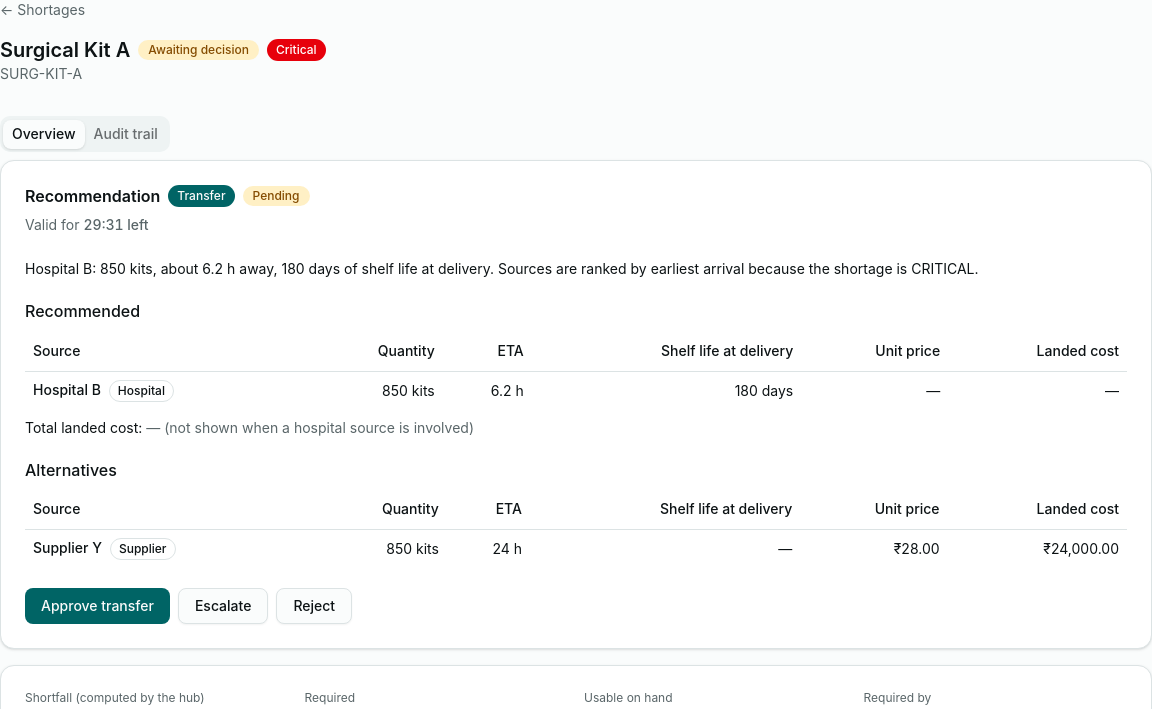
Test: Decision panel › escalates without a body when no reason is typed
Click the button "Escalate" at (223,606), box [178,588,268,624]
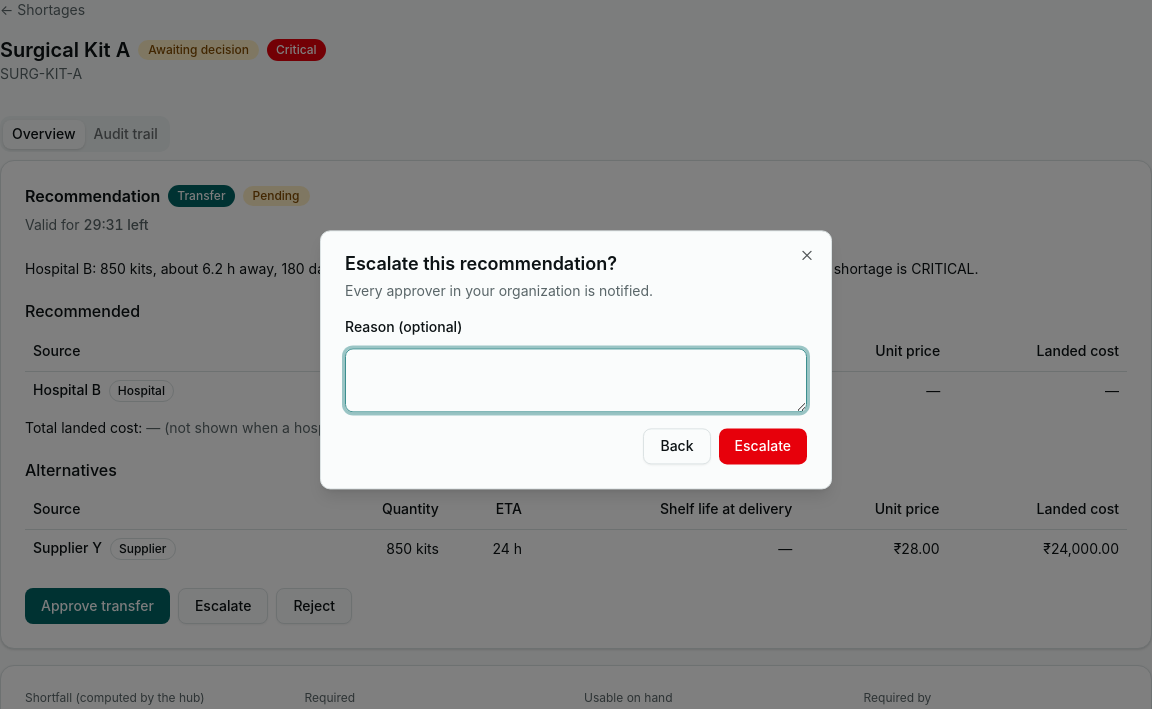
Click the button "Escalate" at (763,447), box [718,429,807,465]
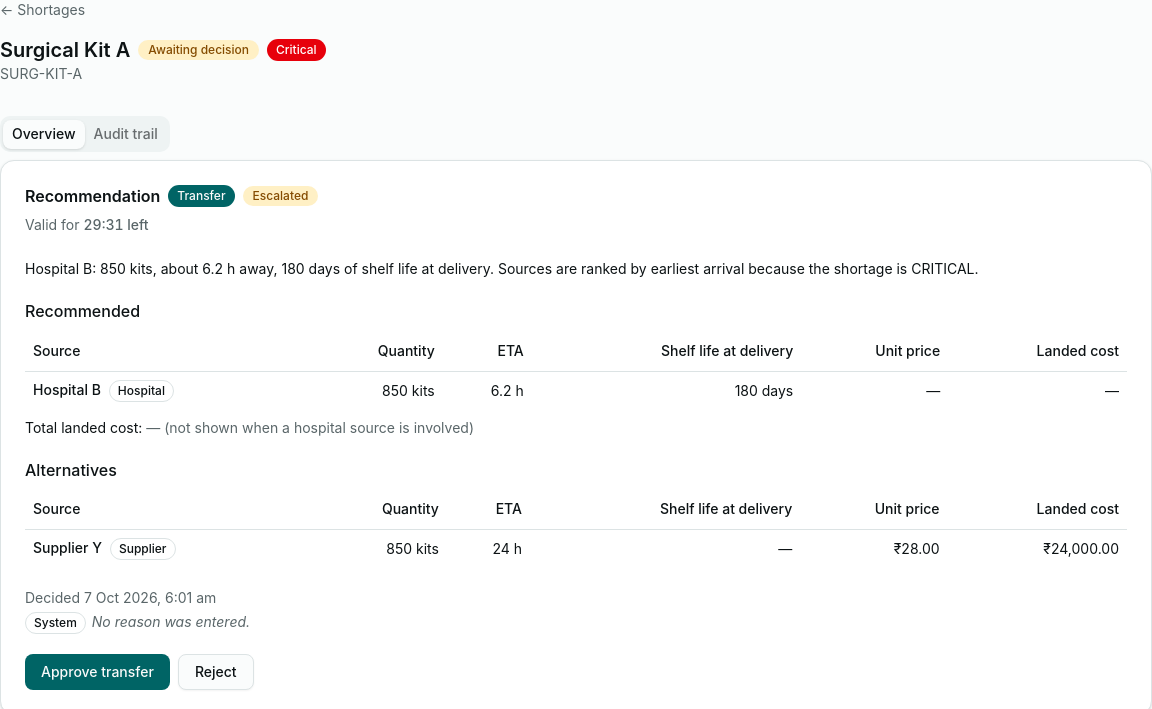
expect the element with test id "recorded-reason" reads "System No reason was entered.": met, box [25,612,250,634]
